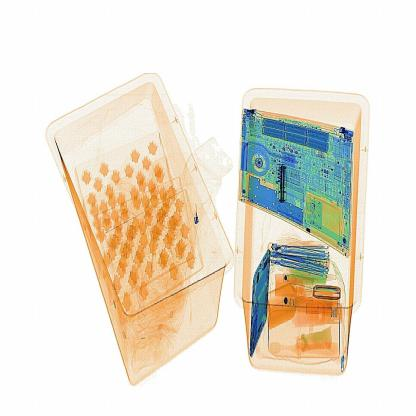scissors: (276, 162, 290, 207)
